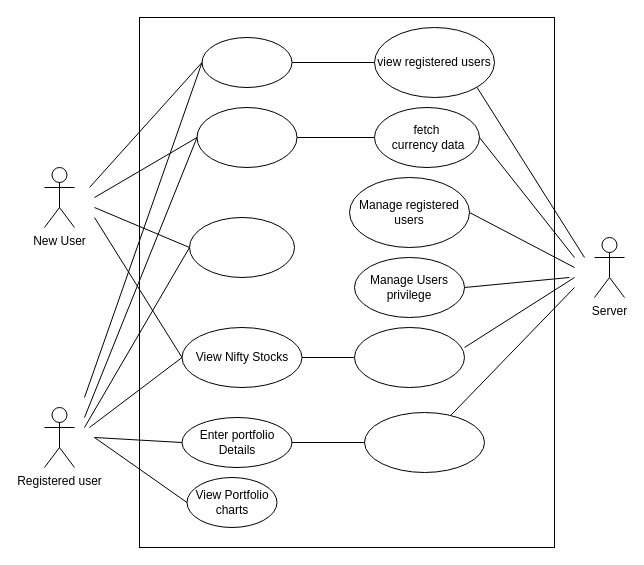
The diagram is 644 pixels wide and 565 high, and some of its shapes have lost their labels. The box of each missing label's shape, as (x1, y1, x2, y2) in pixels:
Currency Converter: (196, 106, 297, 168)
loan interest calculator: (188, 216, 294, 278)
Login / Sign up: (201, 36, 292, 88)
Store Stocks information: (354, 326, 464, 388)
View all user data: (364, 412, 484, 472)
